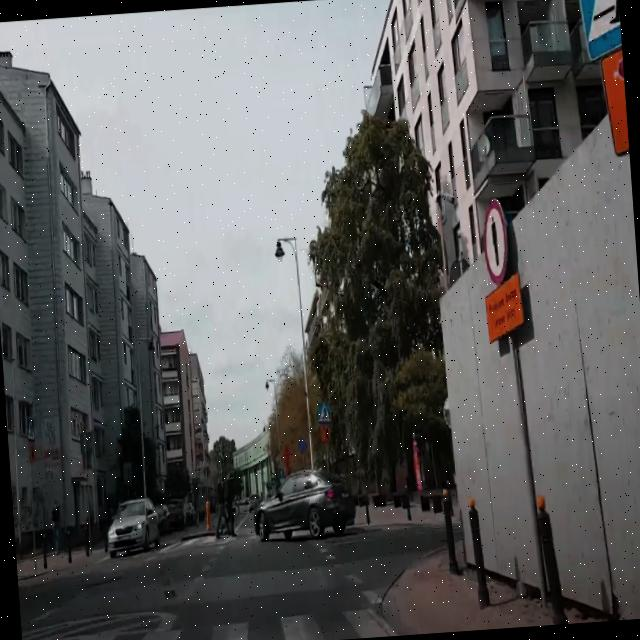Przejscie dla pieszych: (318, 402, 332, 422), (26, 419, 34, 440)
Zakaz zatrzymywania sie: (297, 436, 307, 452)
